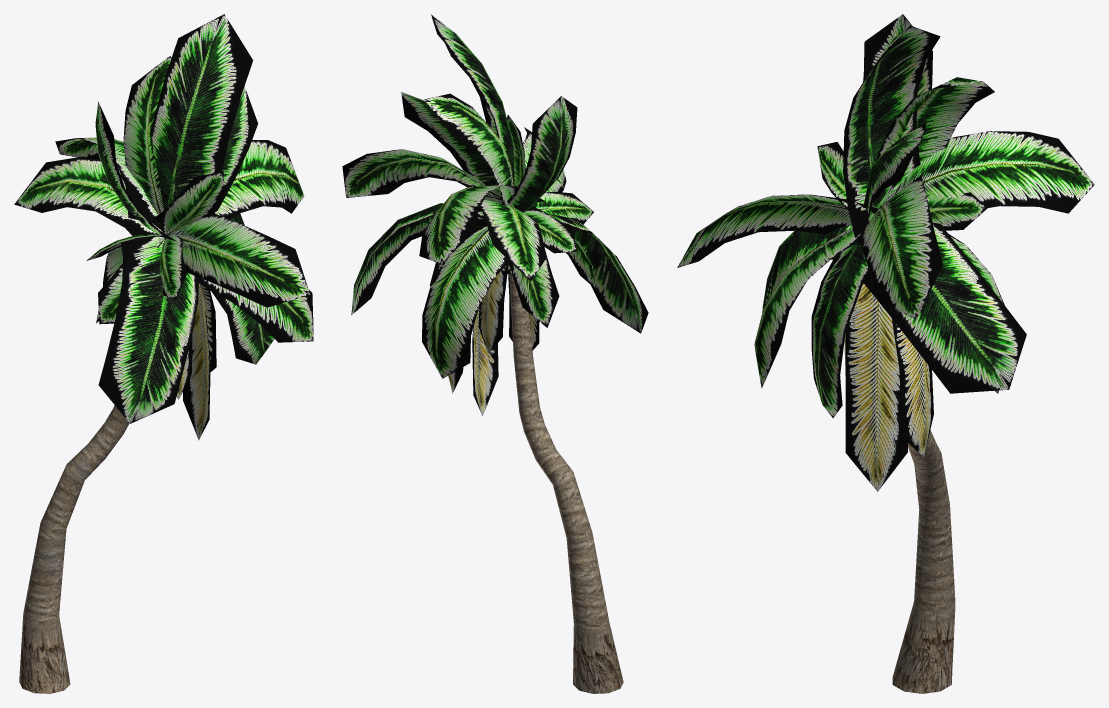
File: palm3.dae
3 renders of one model, left to right at view 1: azimuth 30°, elevation 25°; view 2: azimuth 150°, elevation 25°; view 3: azimuth 270°, elevation 25°, orthographic. The views are drawn at different scales.
Visible parts, largest first — view 1: polySurface335_001_004; view 2: polySurface335_001_004; view 3: polySurface335_001_004.
Part boxes in pixels (x1,y1,x2,y2): polySurface335_001_004: [14, 14, 313, 693]; polySurface335_001_004: [342, 14, 648, 693]; polySurface335_001_004: [677, 14, 1094, 693].
Size of the model in its own units: 5.52 by 5.94 by 11.89.
Materials: 2 (2 with a texture image).
